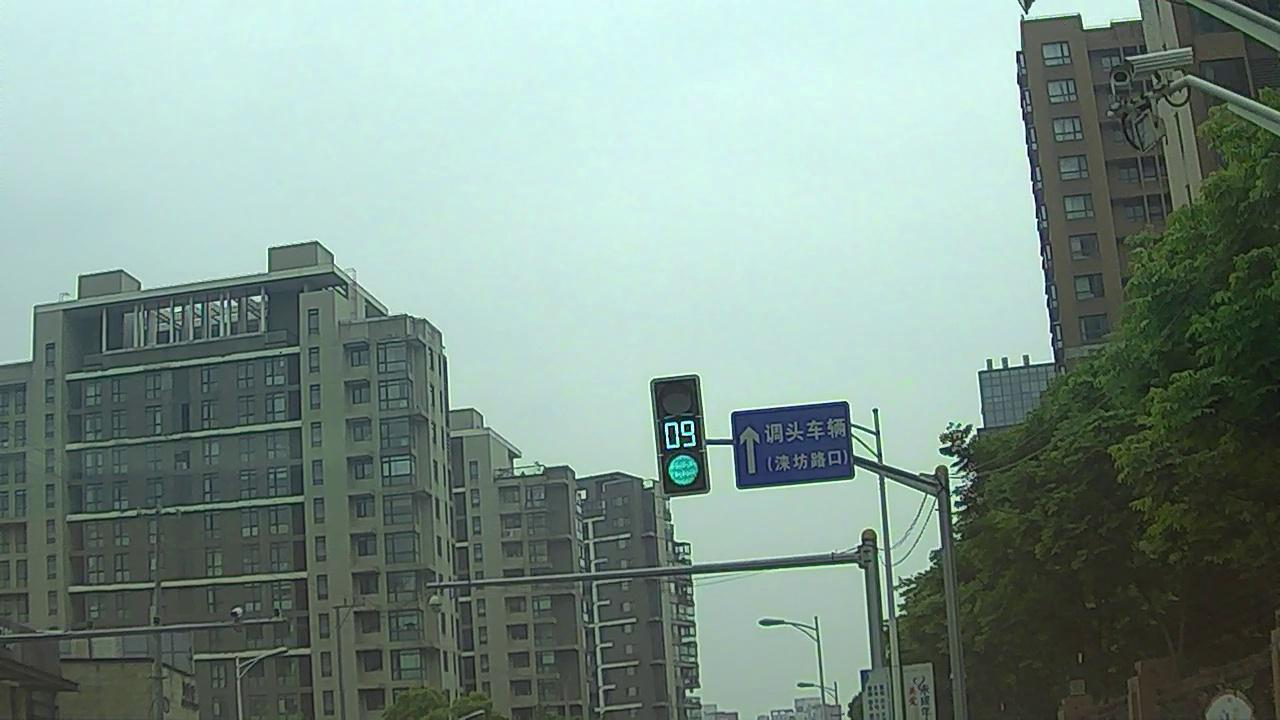traffic_light: (651, 377, 709, 493)
